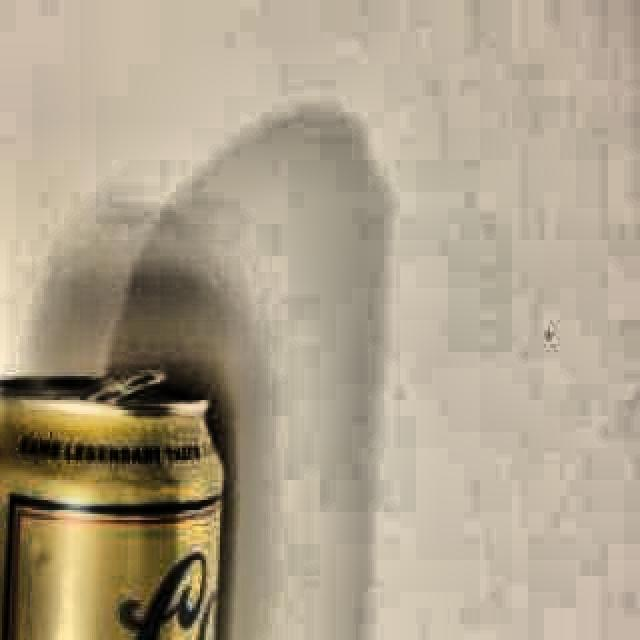metal: (0, 369, 224, 640)
